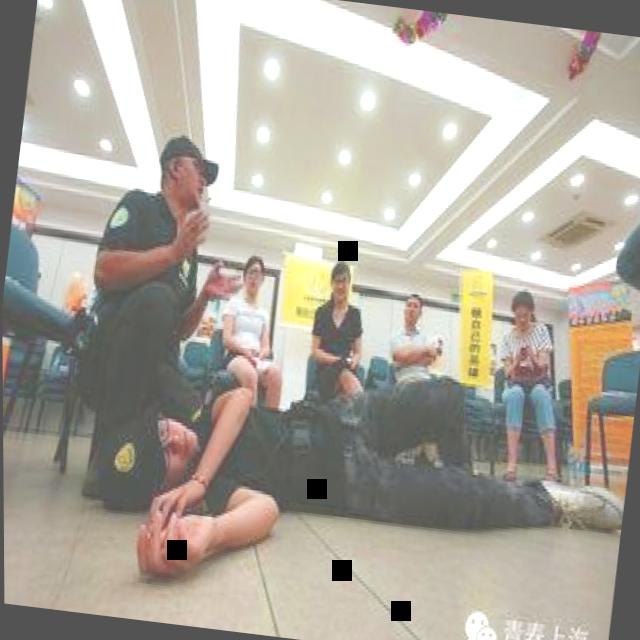Fall-Detected: (131, 355, 634, 598)
